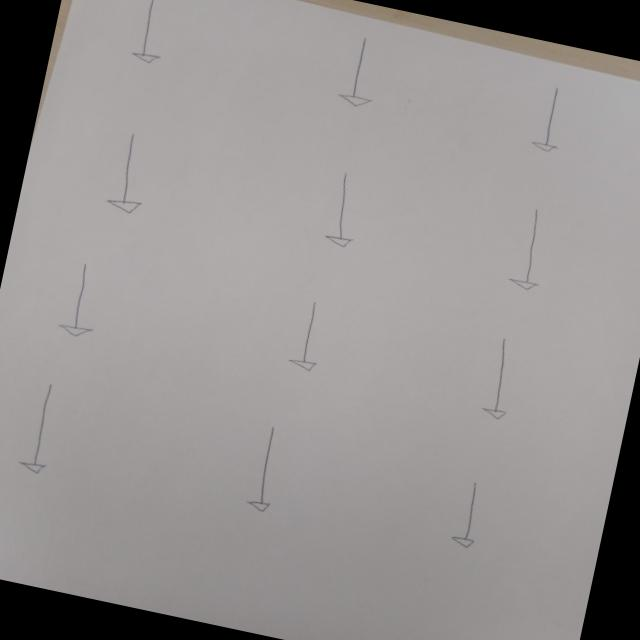arrow_line_down: (229, 418, 295, 522), (98, 122, 166, 220), (10, 376, 72, 482), (472, 327, 532, 432), (312, 167, 376, 259), (52, 252, 114, 342), (502, 204, 555, 299), (121, 0, 183, 76), (446, 475, 501, 558), (284, 292, 334, 379), (338, 29, 386, 118), (529, 86, 575, 162)
